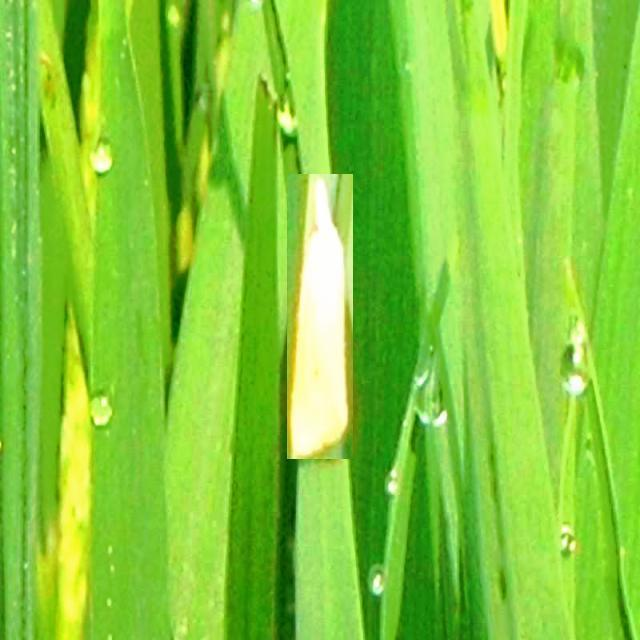stem-borer: (287, 174, 353, 459)
